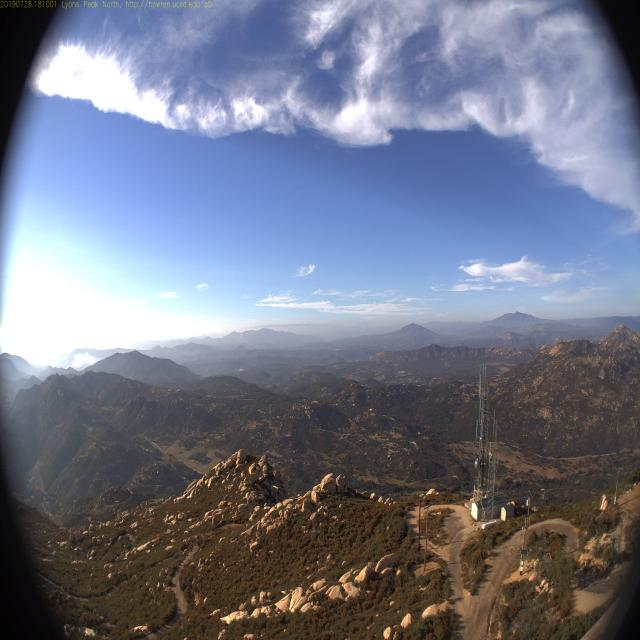smoke: (68, 343, 100, 378)
